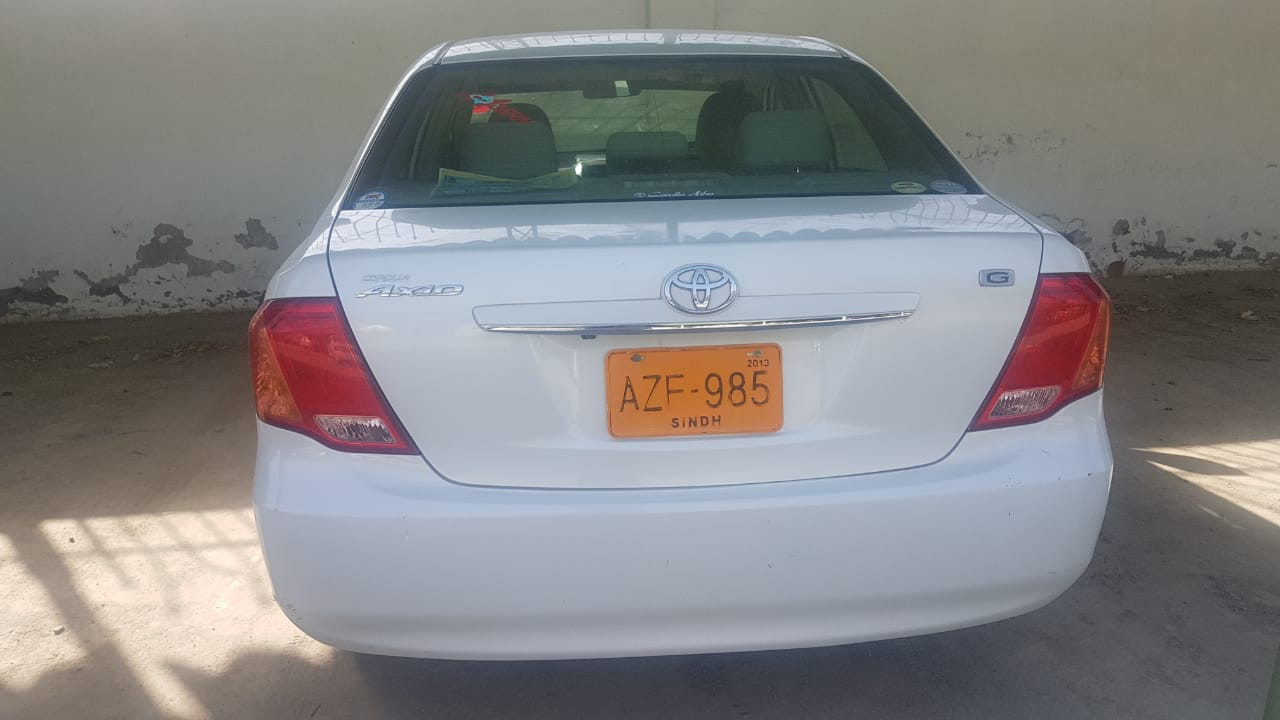license plate: (603, 348, 785, 439)
